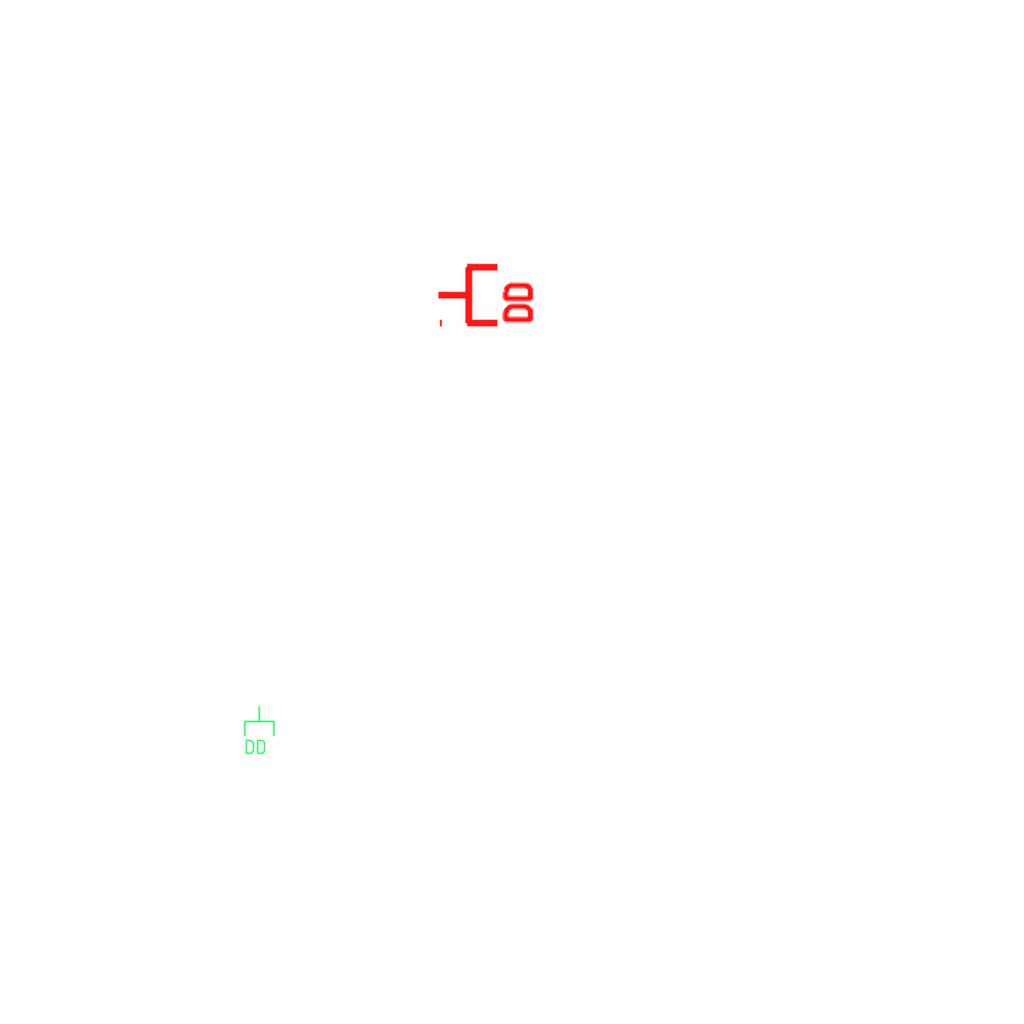Datenanschluss_zweifach: (435, 259, 538, 328), (242, 705, 276, 756)
